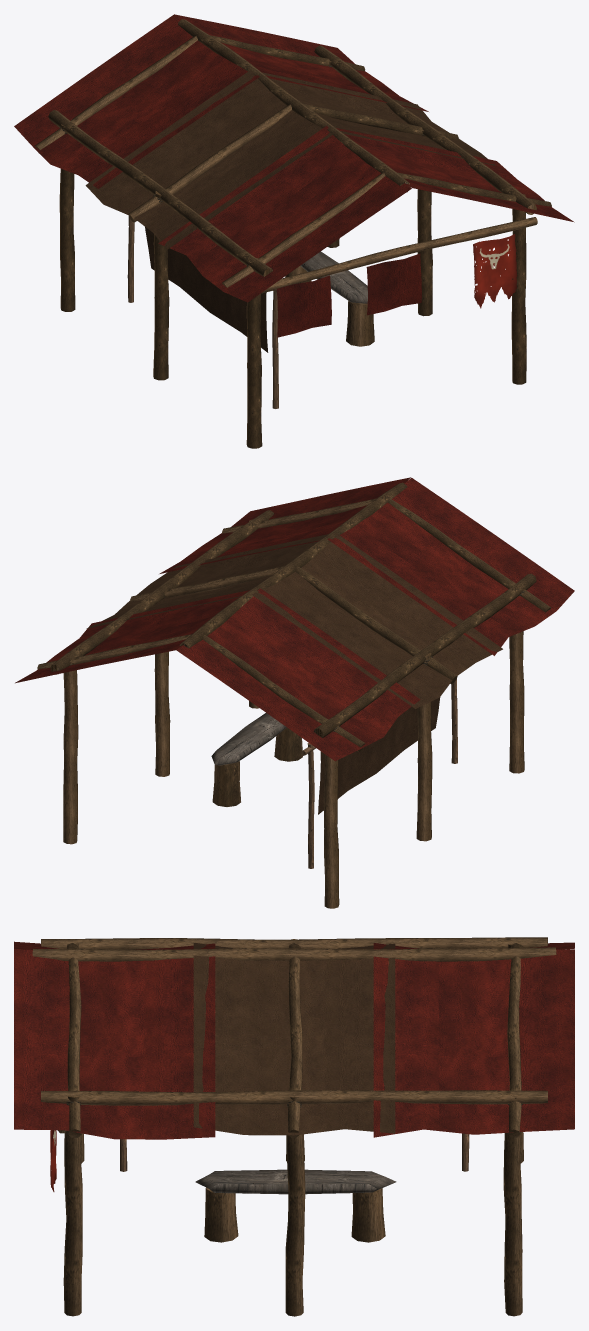
Rendered from SM_Bld_Stone_Canopy.gltf.
3 renders of one model, top to bottom at view 1: azimuth 30°, elevation 25°; view 2: azimuth 150°, elevation 25°; view 3: azimuth 270°, elevation 25°, orthographic. The views are drawn at different scales.
Visible parts, largest first — view 1: SM_Bld_Stone_Canopy; view 2: SM_Bld_Stone_Canopy; view 3: SM_Bld_Stone_Canopy.
Part boxes in pixels (bbox=[...]): SM_Bld_Stone_Canopy: bbox=[14, 14, 574, 448]; SM_Bld_Stone_Canopy: bbox=[15, 477, 574, 908]; SM_Bld_Stone_Canopy: bbox=[14, 937, 574, 1316].
Size of the model in its own units: 5.65 by 3.91 by 6.86.
7 materials, 7 textured.
